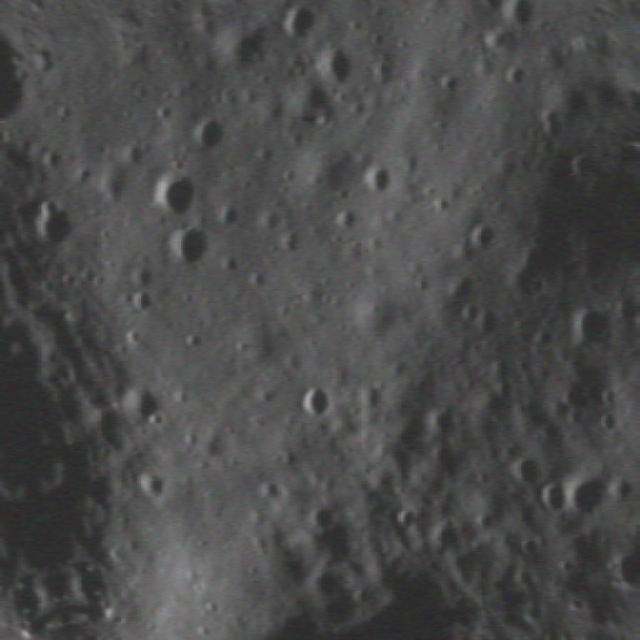crater: (27, 187, 93, 261), (150, 162, 219, 232), (156, 217, 222, 286), (308, 36, 369, 101), (568, 296, 630, 359), (457, 205, 508, 270), (558, 473, 619, 527), (0, 66, 40, 143), (348, 150, 404, 204), (274, 0, 324, 54), (498, 448, 552, 498), (293, 379, 339, 432), (190, 111, 236, 160), (532, 477, 579, 523), (300, 497, 345, 541)
